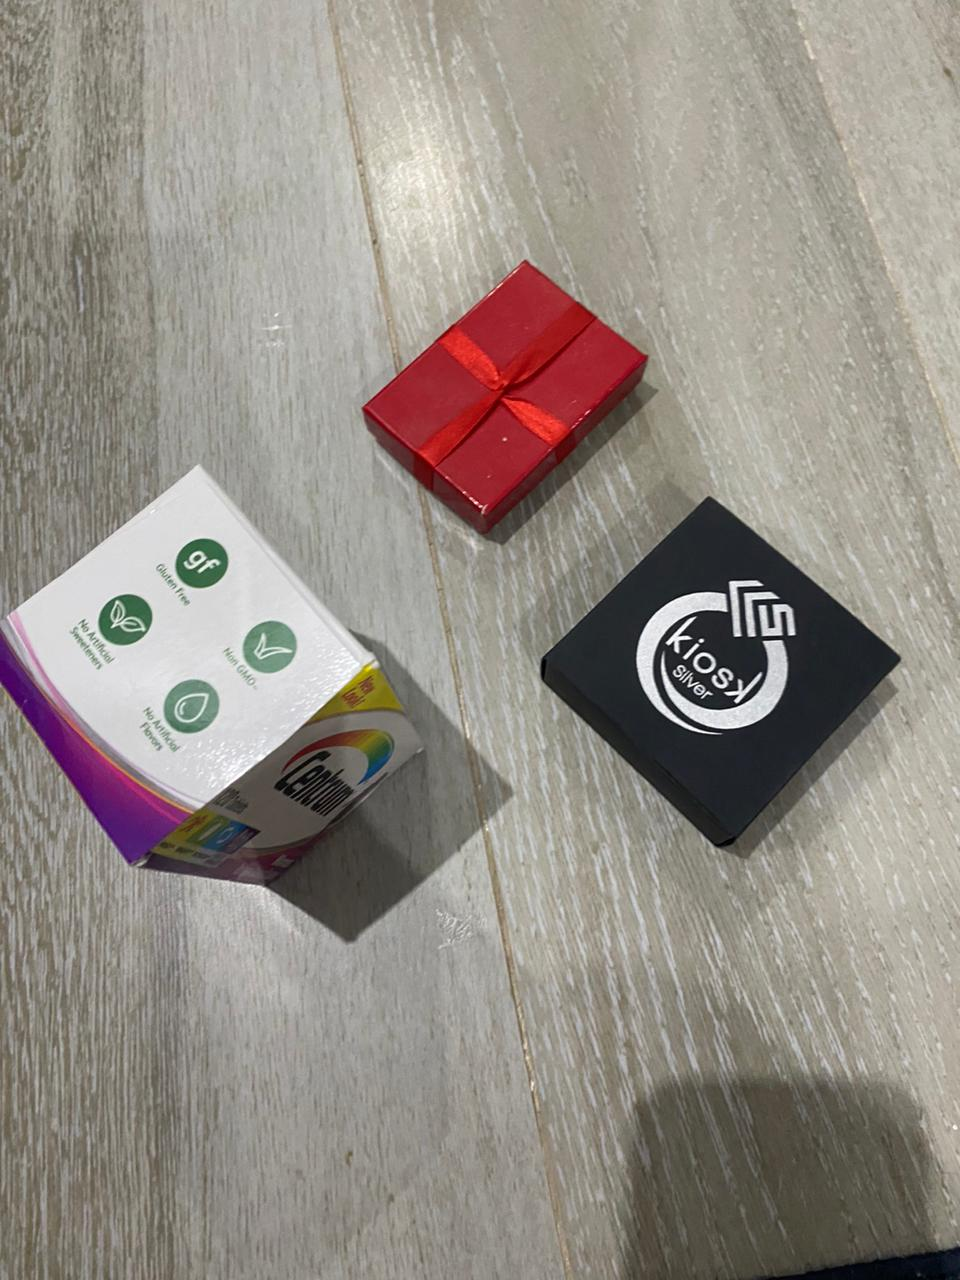Black Box: (362, 244, 656, 546)
Centrum: (6, 459, 427, 890)
Red Box: (547, 494, 908, 860)
